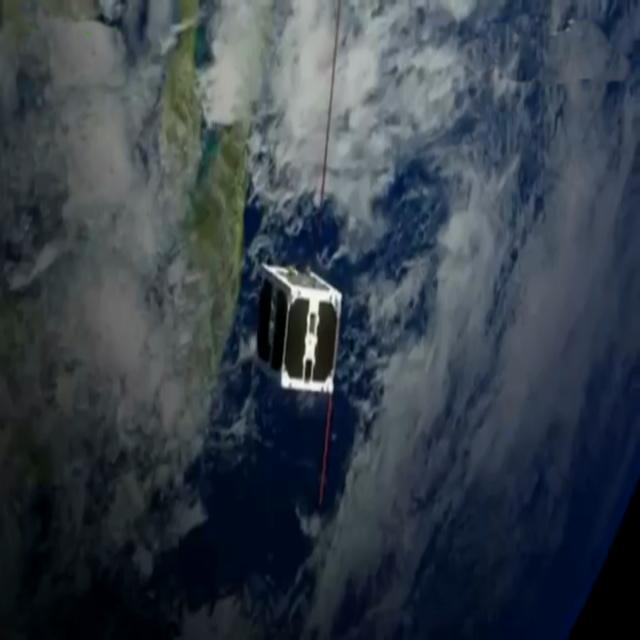satellite: (233, 231, 365, 411)
